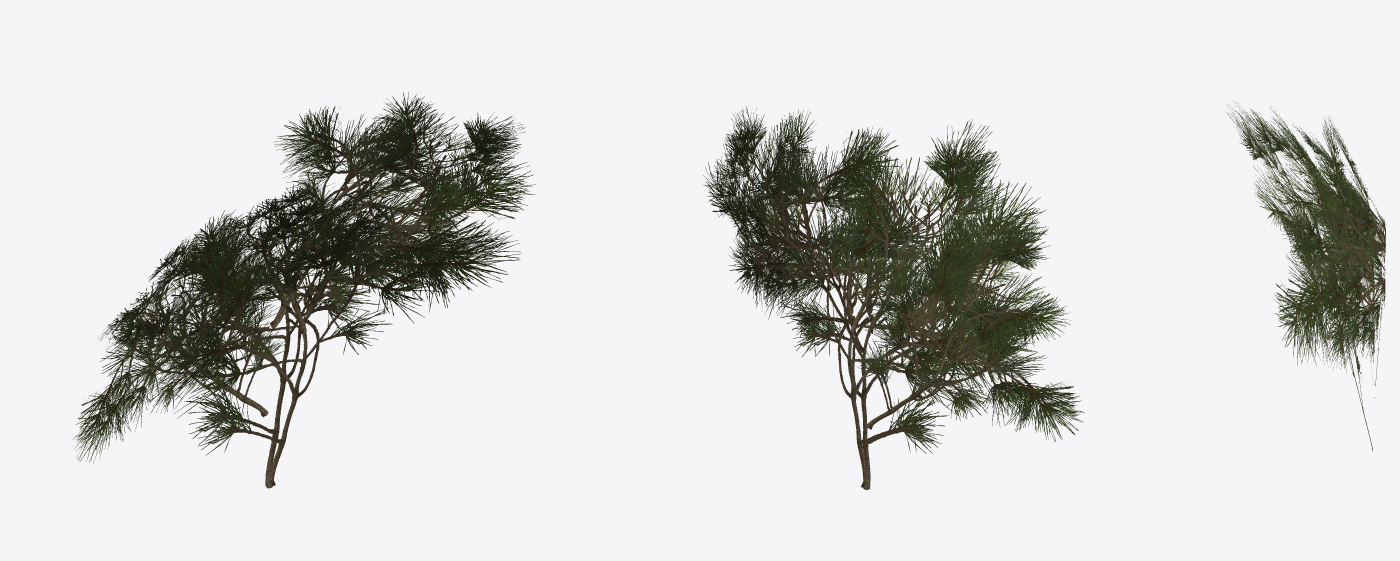
Rendered from Diamond2Sided_3.FBX.
The picture shows the model from 3 angles, left to right: view 1: azimuth 30°, elevation 25°; view 2: azimuth 150°, elevation 25°; view 3: azimuth 270°, elevation 25°; orthographic projection. The views are drawn at different scales.
Parts seen in each view (by area): view 1: Plane001; view 2: Plane001; view 3: Plane001.
Boxes of the visible parts, x1=… form: Plane001: x1=73, y1=92, x2=535, y2=488; Plane001: x1=703, y1=106, x2=1084, y2=489; Plane001: x1=1226, y1=101, x2=1385, y2=451.
Bounding box in the file's own units: 115 × 95.79 × 33.73.
Materials: 1 (1 with a texture image).
